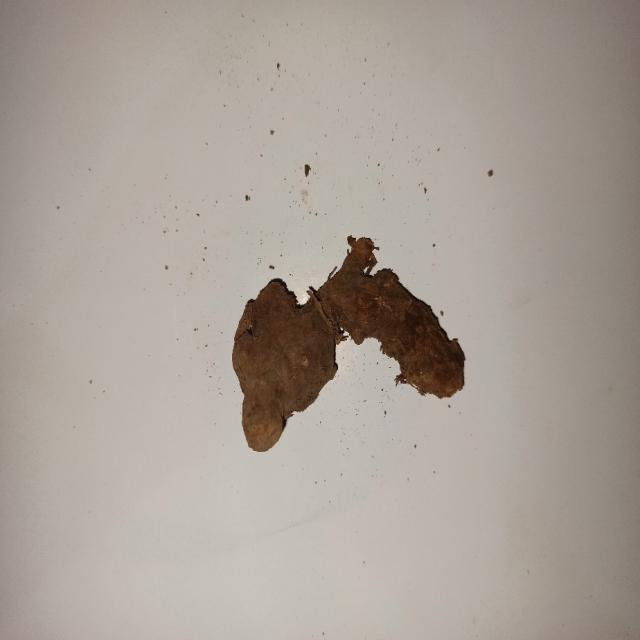ginger: (235, 243, 465, 455)
